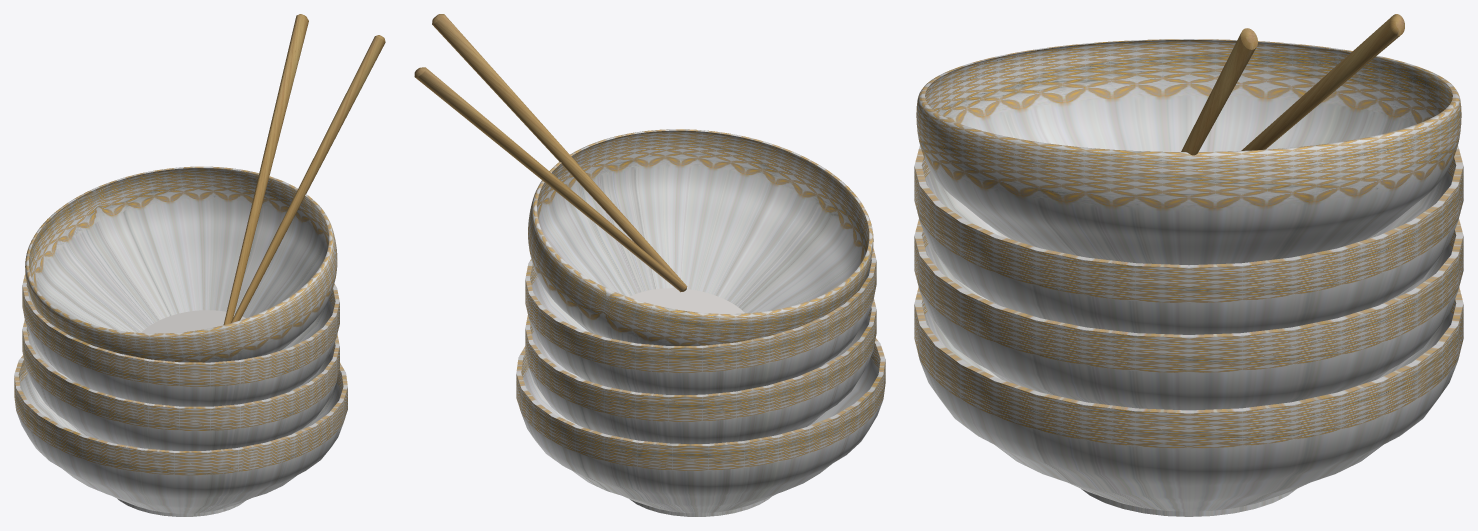
The model's file is bowl_and_chops.glb.
3 renders of one model, left to right at view 1: azimuth 30°, elevation 25°; view 2: azimuth 150°, elevation 25°; view 3: azimuth 270°, elevation 25°, orthographic. The views are drawn at different scales.
Parts seen in each view (by area): view 1: bowl bulat.007, bowl bulat.004, bowl bulat.006, bowl bulat.005, chop stick.001; view 2: bowl bulat.007, bowl bulat.004, bowl bulat.006, bowl bulat.005, chop stick.001; view 3: bowl bulat.007, bowl bulat.004, bowl bulat.005, bowl bulat.006, chop stick.001.
Boxes of the visible parts, <box> form: bowl bulat.007: <box>25,166,337,362</box>; bowl bulat.004: <box>14,355,347,516</box>; bowl bulat.006: <box>22,273,339,406</box>; bowl bulat.005: <box>22,320,339,450</box>; chop stick.001: <box>223,14,385,324</box>; bowl bulat.007: <box>528,129,873,345</box>; bowl bulat.004: <box>516,338,885,516</box>; bowl bulat.006: <box>525,247,876,394</box>; bowl bulat.005: <box>525,299,876,443</box>; chop stick.001: <box>414,14,687,292</box>; bowl bulat.007: <box>916,39,1461,265</box>; bowl bulat.004: <box>914,287,1463,516</box>; bowl bulat.005: <box>914,219,1463,410</box>; bowl bulat.006: <box>914,146,1463,334</box>; chop stick.001: <box>1181,14,1404,155</box>.
Bounding box in the file's own units: 6.82 × 6.85 × 5.62.
2 materials, 2 textured.
